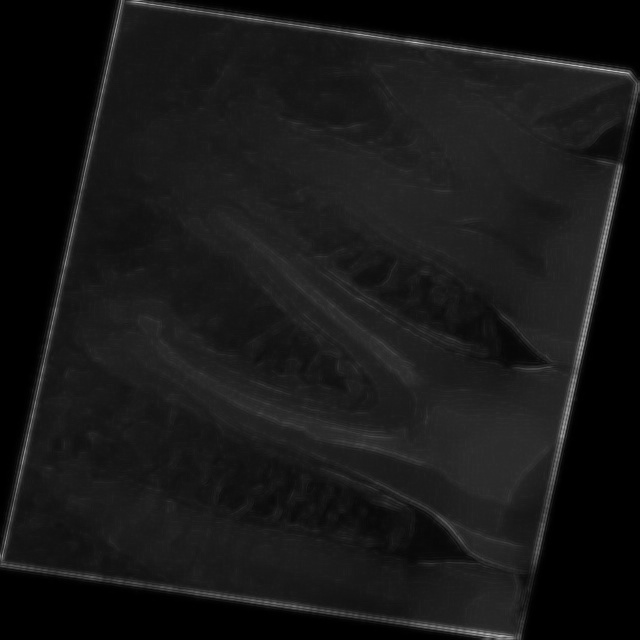Class 0- No endodontic treatment: (36, 171, 596, 523)
Class 1- complete endodontic treatment: (150, 13, 638, 317)
